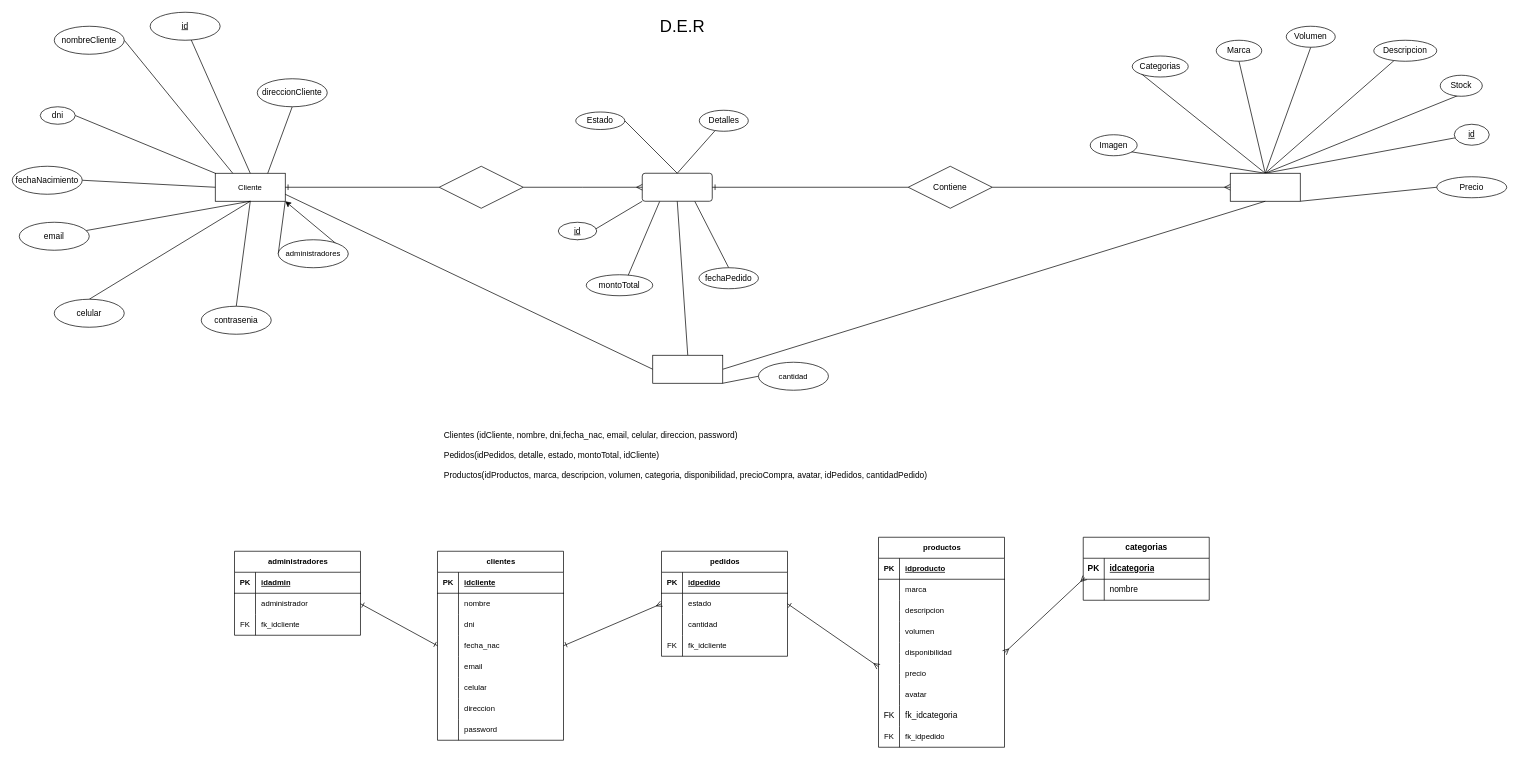
The diagram is 1519 pixels wide and 760 high, and some of its shapes have lost their labels. Here are the shapes that lost their labels. From the top down, the centre of each, then its label:
the point at 481,187: Realiza
the point at 677,187: Pedido
the point at 1265,187: Producto
the point at 687,369: detallespedidos
